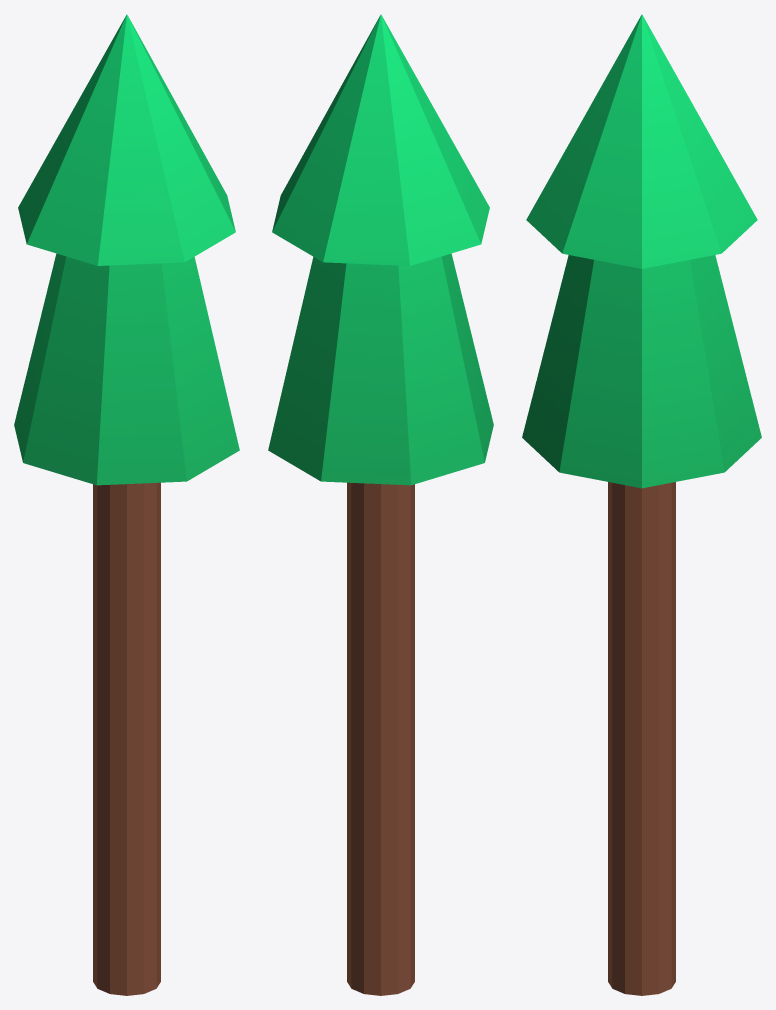
Rendered from Tree_21_gradient_green.fbx.
3 views of the same model, side by side, from view 1: azimuth 30°, elevation 25°; view 2: azimuth 150°, elevation 25°; view 3: azimuth 270°, elevation 25° (orthographic).
Visible parts, largest first — view 1: Tree_21_gradient_green; view 2: Tree_21_gradient_green; view 3: Tree_21_gradient_green.
Part boxes in pixels (box(x1,y1,x2,y2)): Tree_21_gradient_green: box(14, 14, 239, 995); Tree_21_gradient_green: box(268, 14, 493, 995); Tree_21_gradient_green: box(522, 14, 761, 995).
Bounding box in the file's own units: 77.92 × 347 × 77.92.
